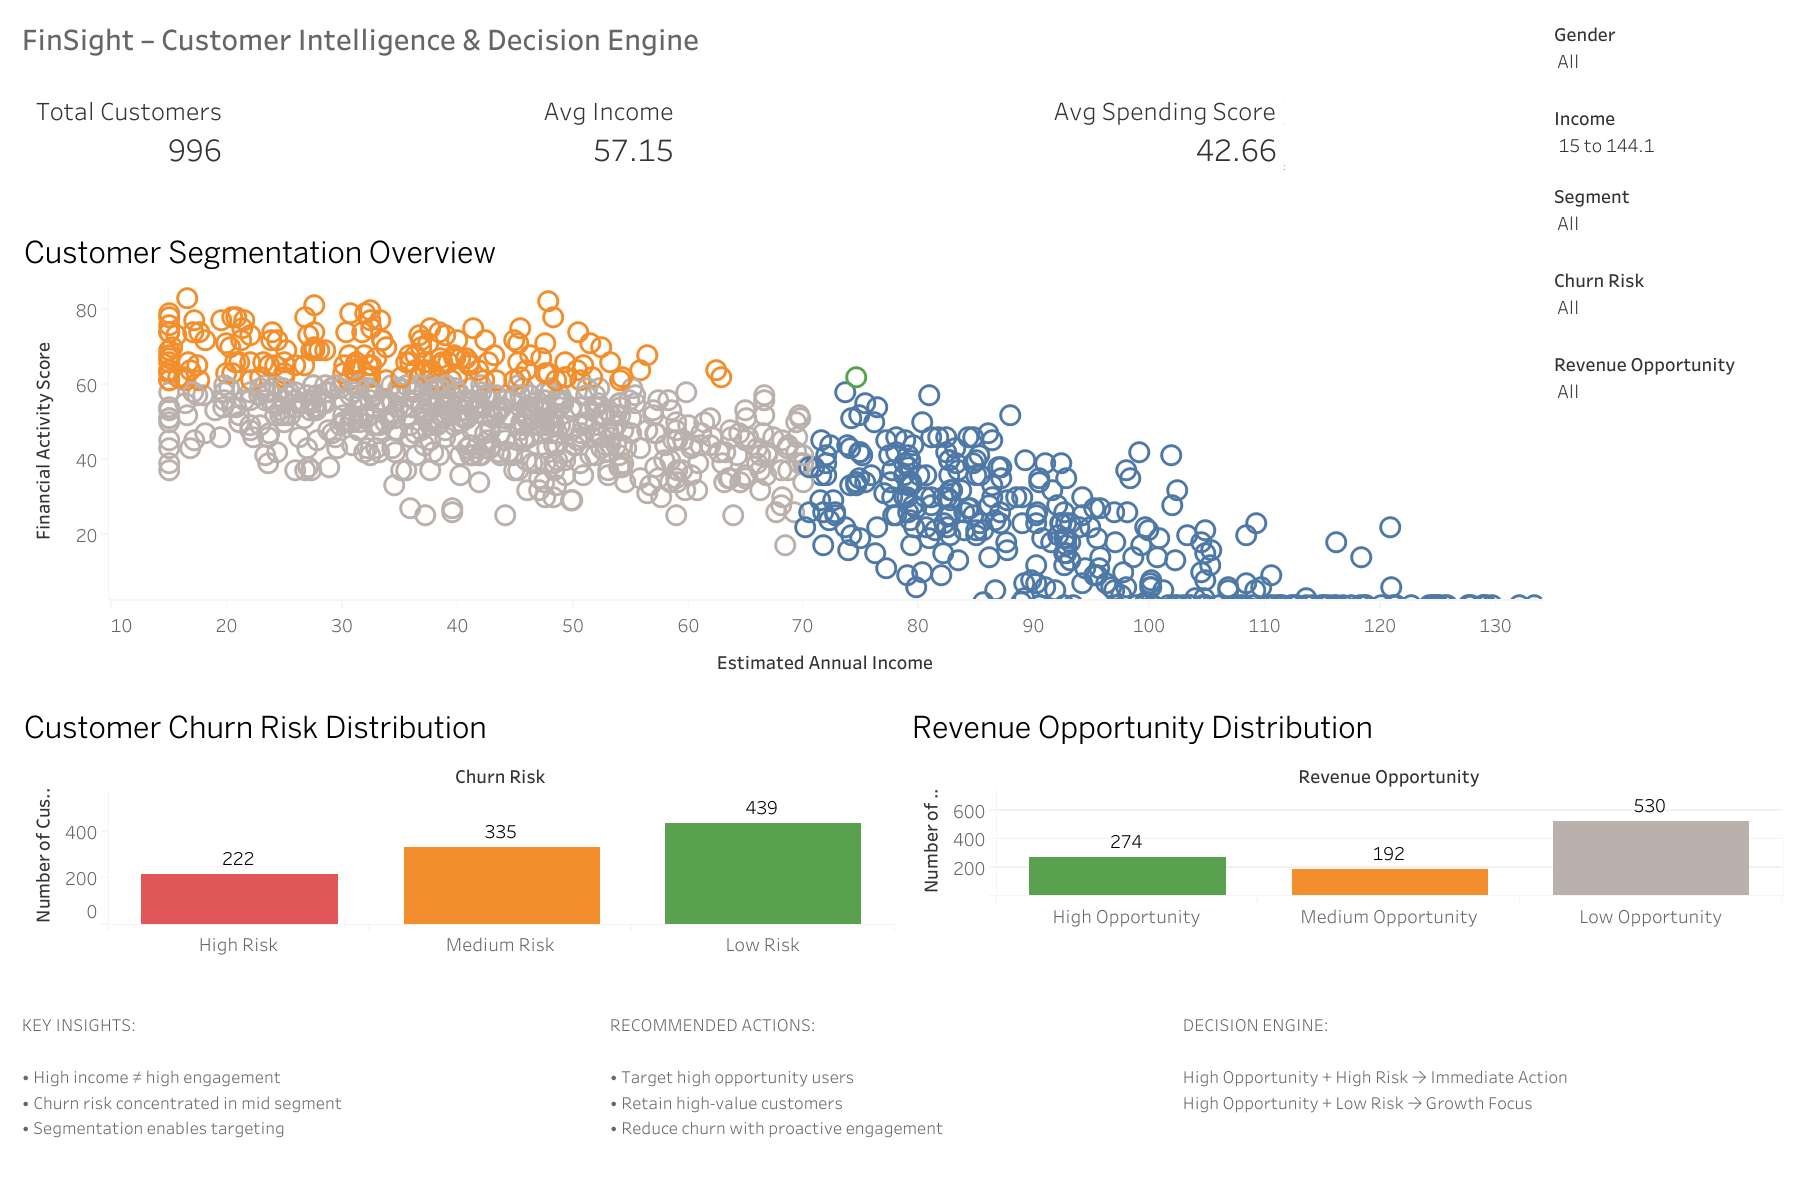

What the dashboard file says about the page in this screenshot:
{"tool":"tableau","page":{"name":"Dashboard ","canvas":[1200,800],"ordinal":0},"visuals":[{"type":"text","box":[8,8,1024,47]},{"type":"filter","title":"Sheet 1","param":"[federated.1j3xayr09q5vsf11vjclv0pl5jb2].[none:Gender:nk]","box":[1032,8,160,70]},{"type":"worksheet","title":"Sheet 4","mark":"Automatic","box":[8,55,341.3,101]},{"type":"worksheet","title":"Sheet 5","mark":"Automatic","box":[349.3,55,341.3,101]},{"type":"worksheet","title":"Sheet 6","mark":"Automatic","box":[690.7,55,341.3,101]},{"type":"filter","title":"Sheet 1","param":"[federated.1j3xayr09q5vsf11vjclv0pl5jb2].[none:Income:qk]","box":[1032,78,160,59]},{"type":"filter","title":"Sheet 1","param":"[federated.1j3xayr09q5vsf11vjclv0pl5jb2].[none:Segment:nk]","box":[1032,137,160,70]},{"type":"worksheet","title":"Sheet 1","mark":"Automatic","rows":["SpendingScore"],"cols":["Income"],"box":[8,156,1024,305]},{"type":"filter","title":"Sheet 2","param":"[federated.1j3xayr09q5vsf11vjclv0pl5jb2].[none:ChurnRisk:nk]","box":[1032,207,160,70]},{"type":"filter","title":"Sheet 3","param":"[federated.1j3xayr09q5vsf11vjclv0pl5jb2].[none:RevenueOpportunity:nk]","box":[1032,277,160,70]},{"type":"worksheet","title":"Sheet 2","mark":"Automatic","rows":["CustomerID"],"cols":["ChurnRisk"],"box":[8,461,592,181]},{"type":"worksheet","title":"Sheet 3","mark":"Automatic","rows":["CustomerID"],"cols":["RevenueOpportunity"],"box":[600,461,592,181]},{"type":"text","box":[8,642,392,150]},{"type":"text","box":[400,642,382,150]},{"type":"text","box":[782,642,410,150]}]}

Visuals, with their boxes in screenshot pixels (x1, y1, x2, y2), scaled from the page's 1200x800 canvas onto the 1799x1199 screenshot:
text: rect(12, 12, 1547, 82)
"Sheet 1" filter: rect(1547, 12, 1787, 117)
"Sheet 4" worksheet: rect(12, 82, 524, 234)
"Sheet 5" worksheet: rect(524, 82, 1035, 234)
"Sheet 6" worksheet: rect(1035, 82, 1547, 234)
"Sheet 1" filter: rect(1547, 117, 1787, 205)
"Sheet 1" filter: rect(1547, 205, 1787, 310)
"Sheet 1" worksheet: rect(12, 234, 1547, 691)
"Sheet 2" filter: rect(1547, 310, 1787, 415)
"Sheet 3" filter: rect(1547, 415, 1787, 520)
"Sheet 2" worksheet: rect(12, 691, 900, 962)
"Sheet 3" worksheet: rect(900, 691, 1787, 962)
text: rect(12, 962, 600, 1187)
text: rect(600, 962, 1172, 1187)
text: rect(1172, 962, 1787, 1187)
